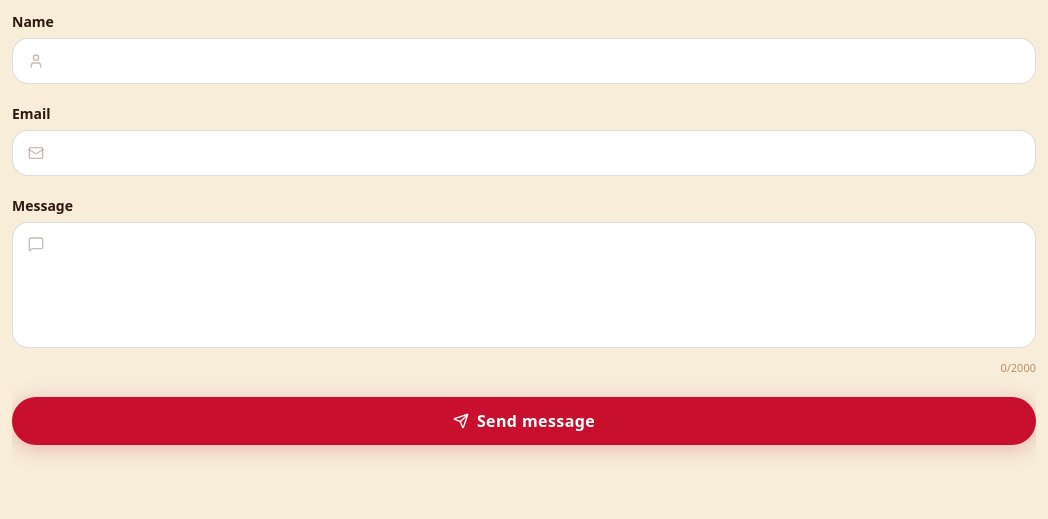
Test: ContactForm › shows a per-field inline error and does not submit when a field is left blank
The width and height of the screenshot is (1048, 519).
In the field labelled "Name": coordinates (524, 61) [12,38,1036,84], type "Jane Doe"
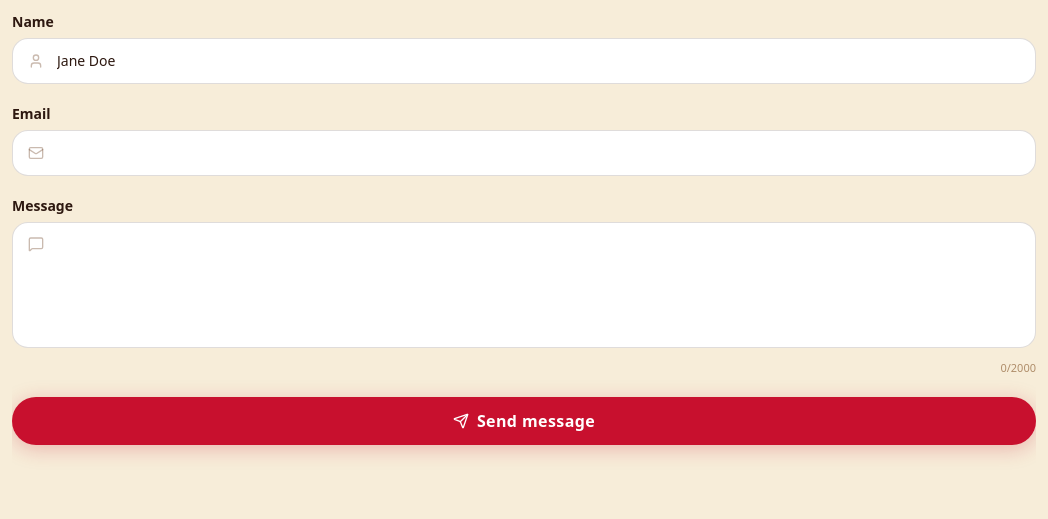
# Email and Message left blank.
Click the button "Send message": coordinates (524, 420) [12,396,1036,444]
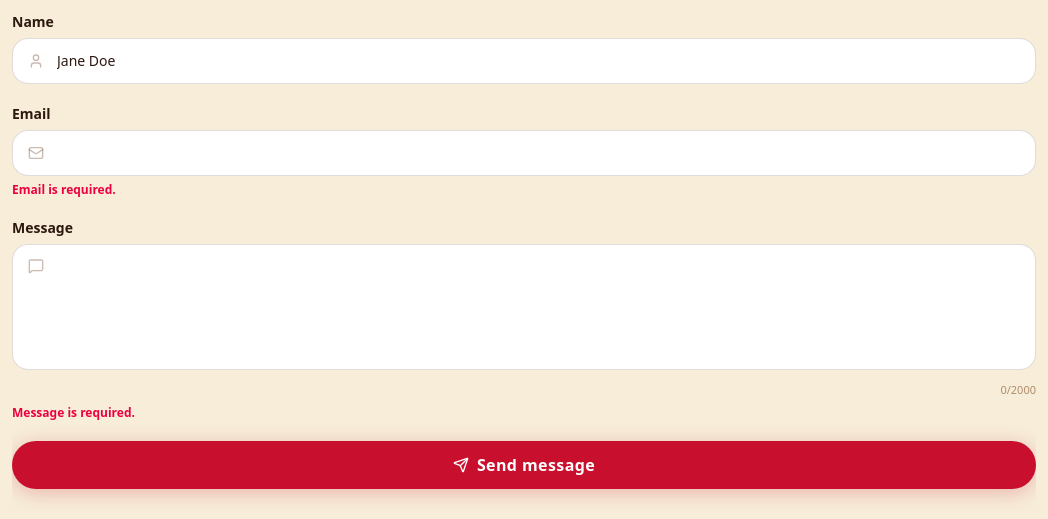
Now the text "Email is required." is shown, box [12,181,116,198]
Now the text "Message is required." is shown, box [12,404,135,420]
